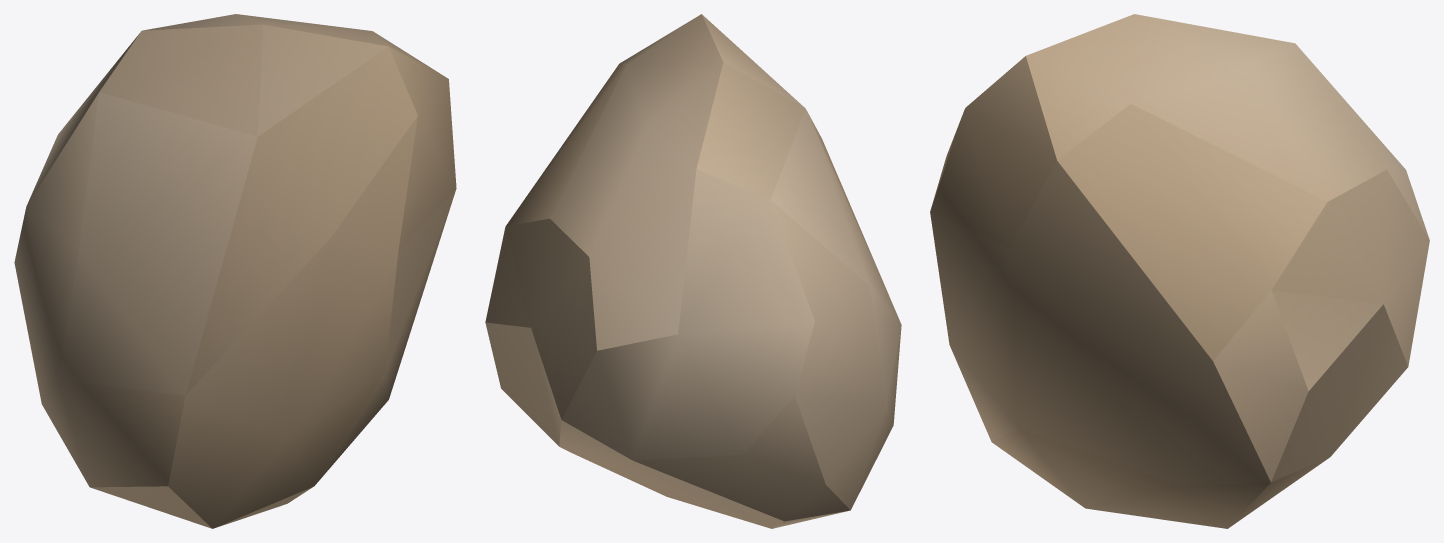
Rendered from Rock_3_E_Color7.fbx.
3 renders of one model, left to right at view 1: azimuth 30°, elevation 25°; view 2: azimuth 150°, elevation 25°; view 3: azimuth 270°, elevation 25°, orthographic. The views are drawn at different scales.
Parts seen in each view (by area): view 1: Rock_3_E_Color7; view 2: Rock_3_E_Color7; view 3: Rock_3_E_Color7.
Part boxes in pixels (left/top/right/bottom): Rock_3_E_Color7: left=14, top=14, right=456, bottom=528; Rock_3_E_Color7: left=485, top=14, right=901, bottom=528; Rock_3_E_Color7: left=930, top=14, right=1429, bottom=528.
Bounding box in the file's own units: 1.15 × 1.29 × 1.18.
